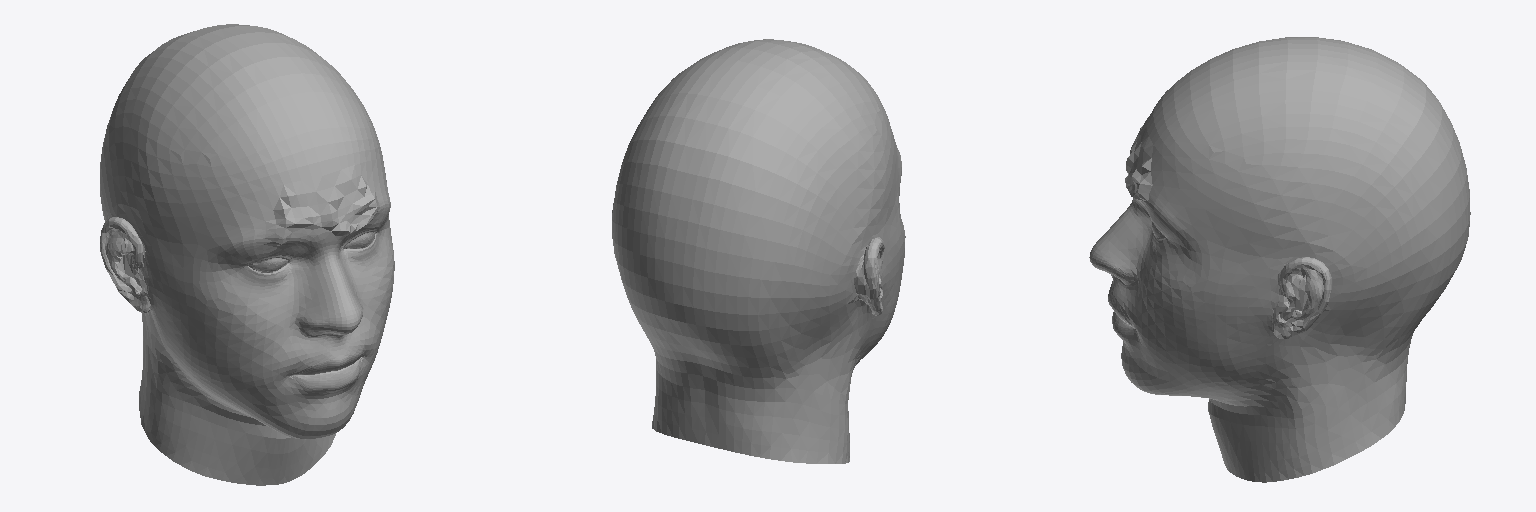
Rendered from MaleFaced29.obj.
3 views of the same model, side by side, from view 1: azimuth 30°, elevation 25°; view 2: azimuth 150°, elevation 25°; view 3: azimuth 270°, elevation 25° (orthographic).
Visible parts, largest first — view 1: HeadHires; view 2: HeadHires; view 3: HeadHires.
Part boxes in pixels (bbox=[...]): HeadHires: bbox=[100, 24, 394, 485]; HeadHires: bbox=[612, 39, 905, 463]; HeadHires: bbox=[1089, 37, 1470, 482].
Size of the model in its own units: 189 by 283 by 236.